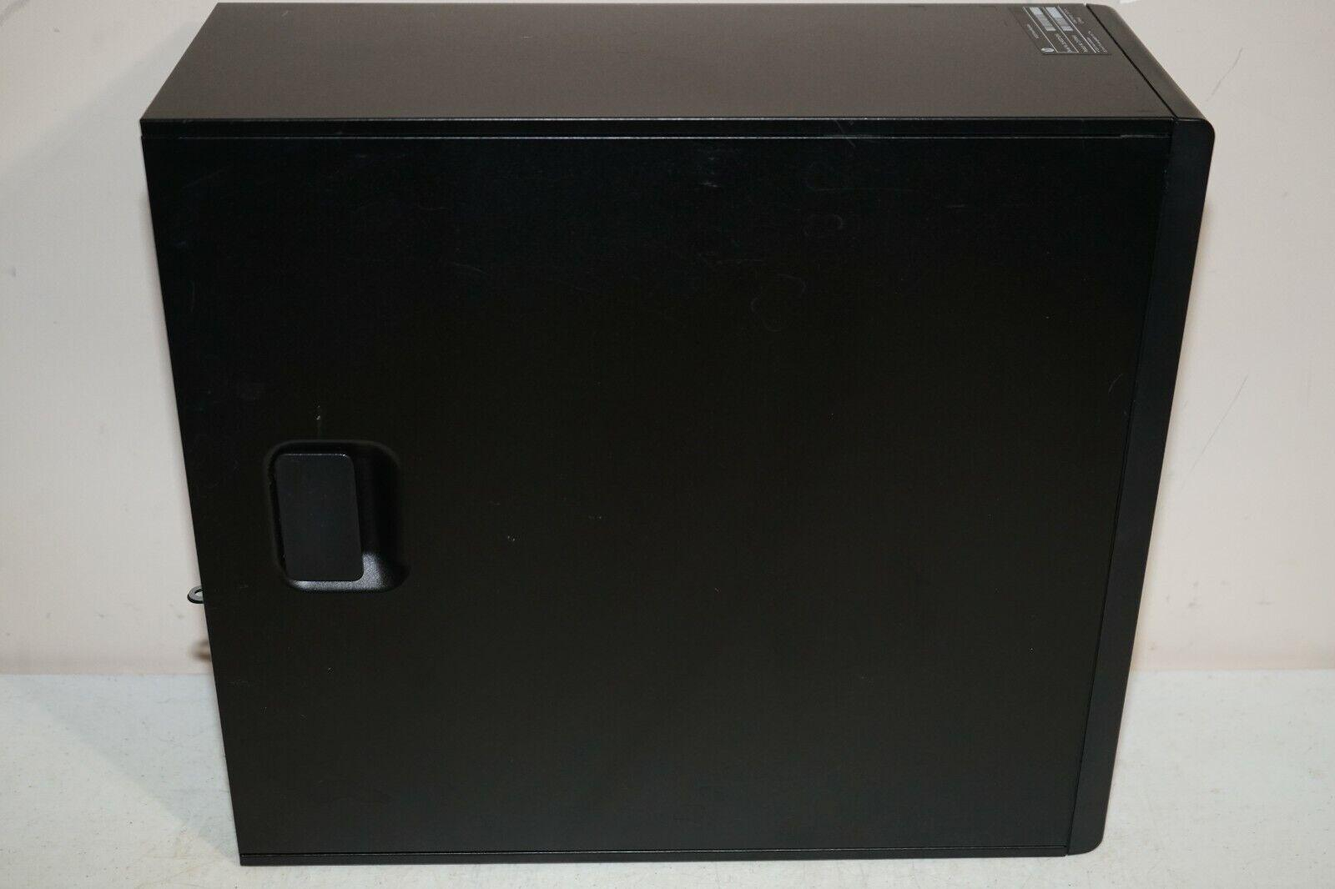computer_tower: (137, 0, 1223, 883)
